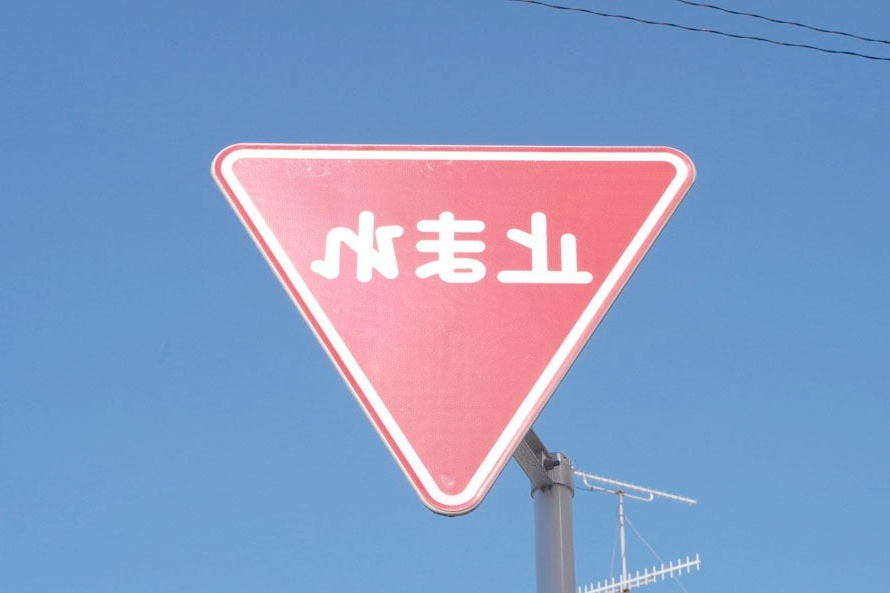Regulatory_sign_triangle: (214, 115, 701, 532)
